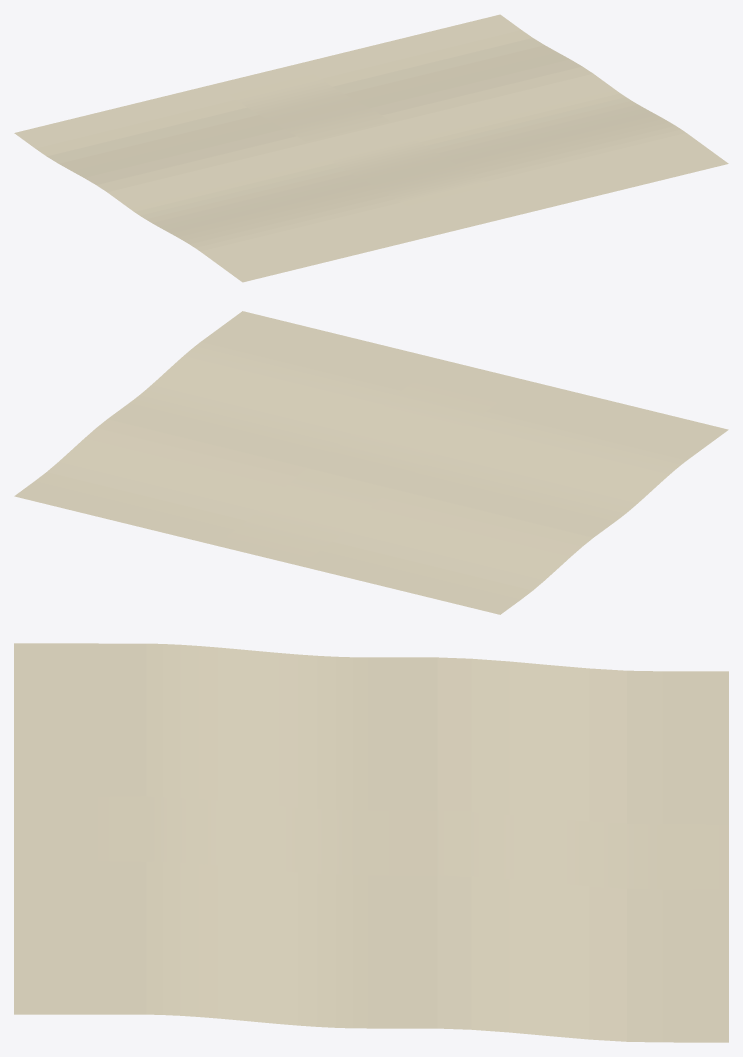
The model's file is env_sand.fbx.
The picture shows the model from 3 angles, top to bottom: view 1: azimuth 30°, elevation 25°; view 2: azimuth 150°, elevation 25°; view 3: azimuth 270°, elevation 25°; orthographic projection. The views are drawn at different scales.
Parts seen in each view (by area): view 1: env_sand; view 2: env_sand; view 3: env_sand.
Part boxes in pixels (x1,y1,x2,y2): env_sand: (14,14,728,282); env_sand: (14,311,728,614); env_sand: (14,643,728,1042).
Bounding box in the file's own units: 5727 × 202 × 4663.
